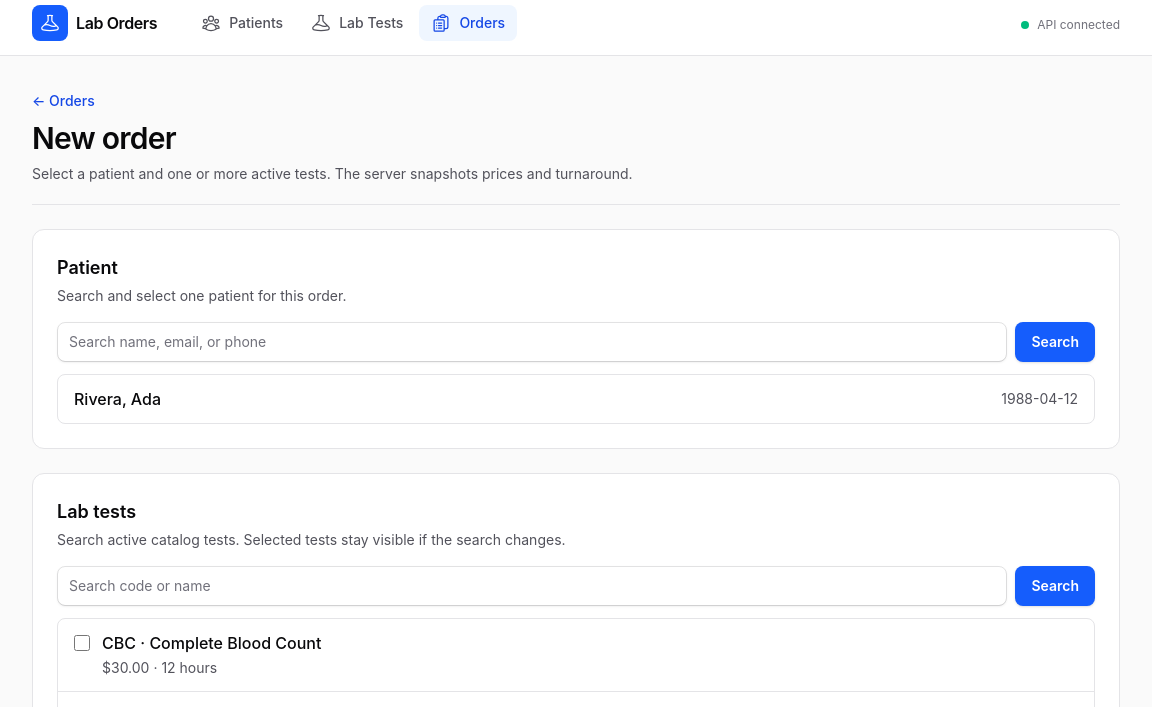
it: creates an order and navigates to the historical detail
The width and height of the screenshot is (1152, 707).
Click the button "Rivera, Ada 1988-04-12".
click(98, 399)  # box [58, 375, 1094, 423]
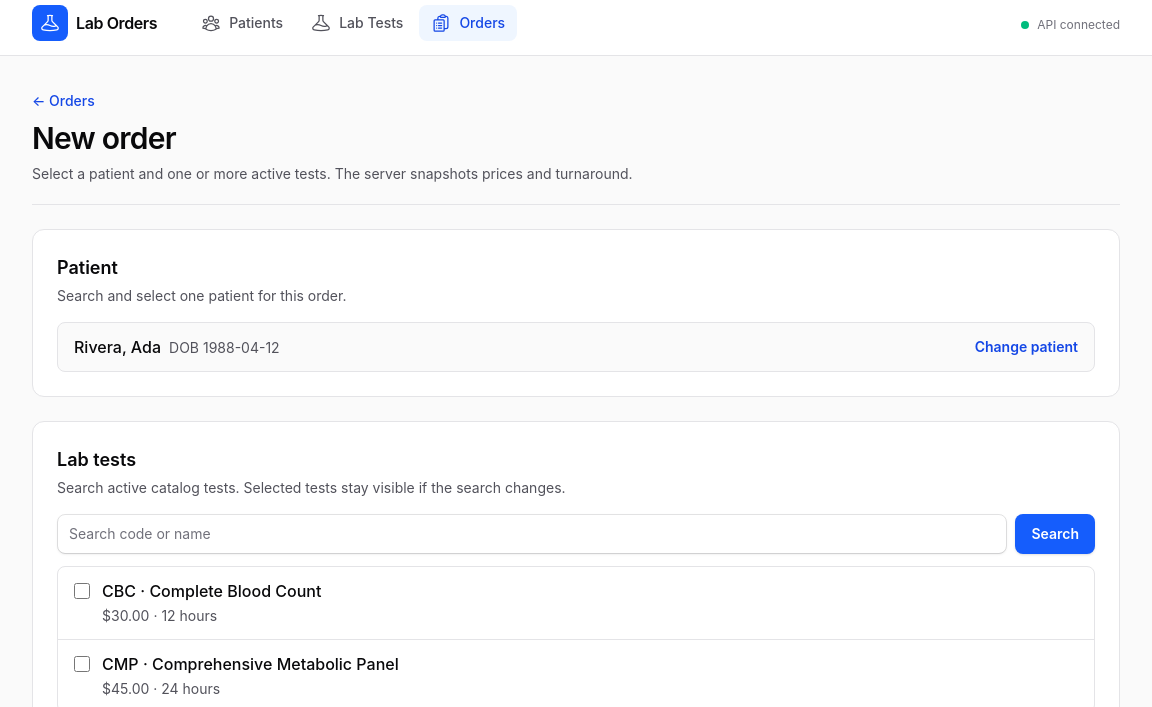
Click the checkbox labelled "CBC · Complete Blood Count $30.00 · 12 hours".
click(82, 591)  # box [74, 583, 90, 599]
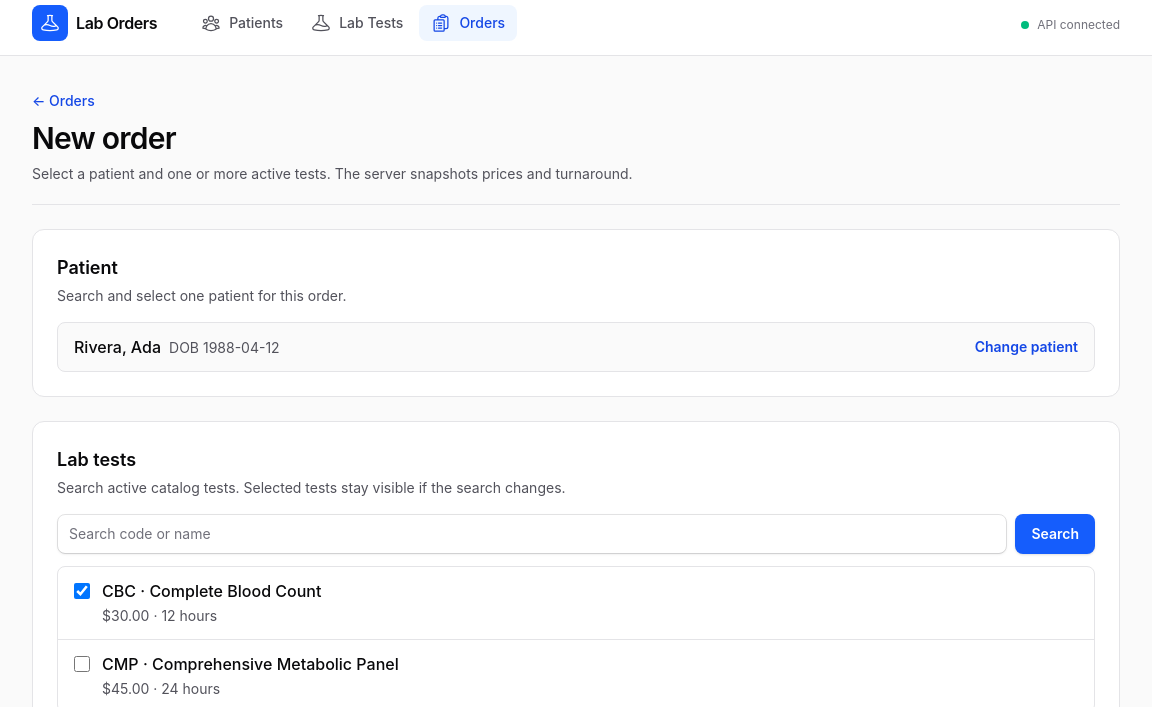
Click the checkbox labelled "CMP · Comprehensive Metabolic Panel $45.00 · 24 hours".
click(82, 664)  # box [74, 656, 90, 672]
(page scrolled)
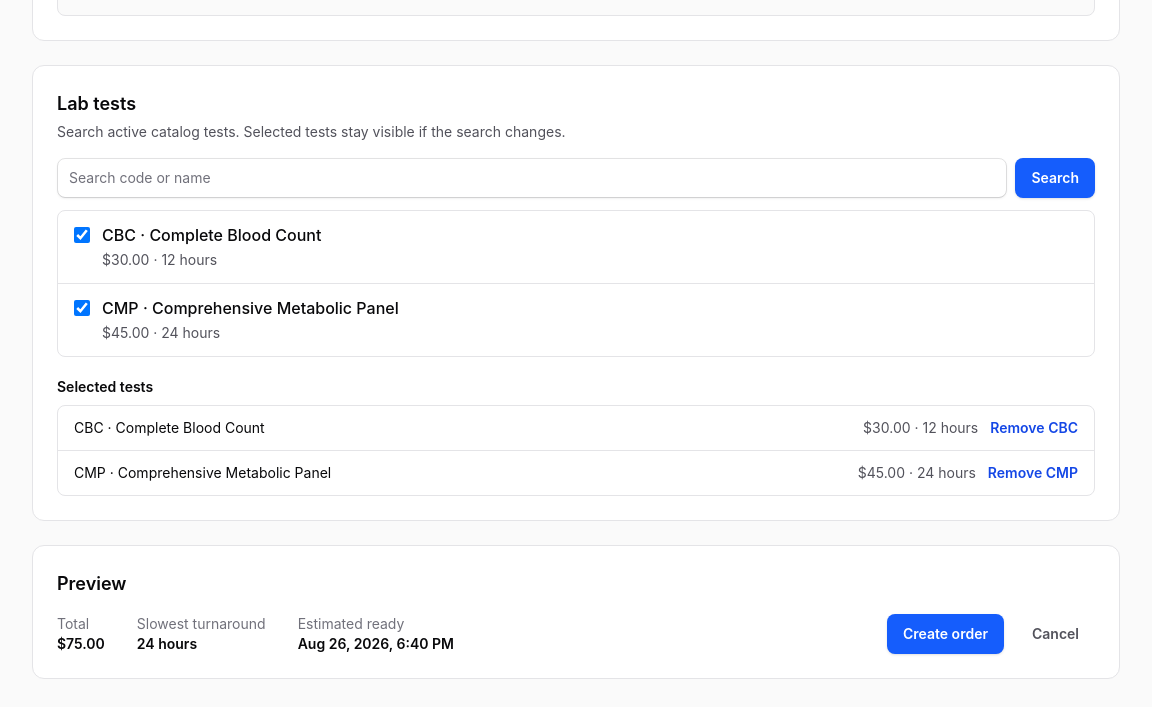
Click the button "Create order".
click(946, 634)  # box [887, 614, 1004, 654]
(page scrolled)
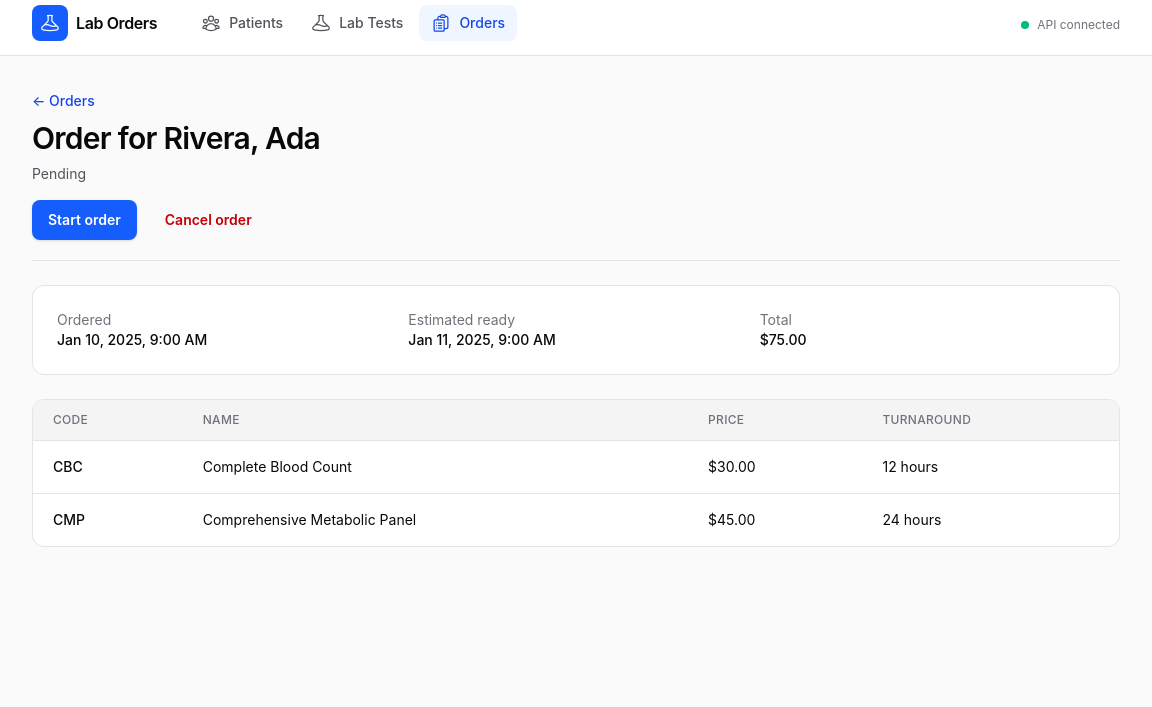
Expected: the text "$75.00" is shown, [760, 331, 807, 348]
Expected: the heading "Order for Rivera, Ada" is shown, [32, 120, 320, 156]
